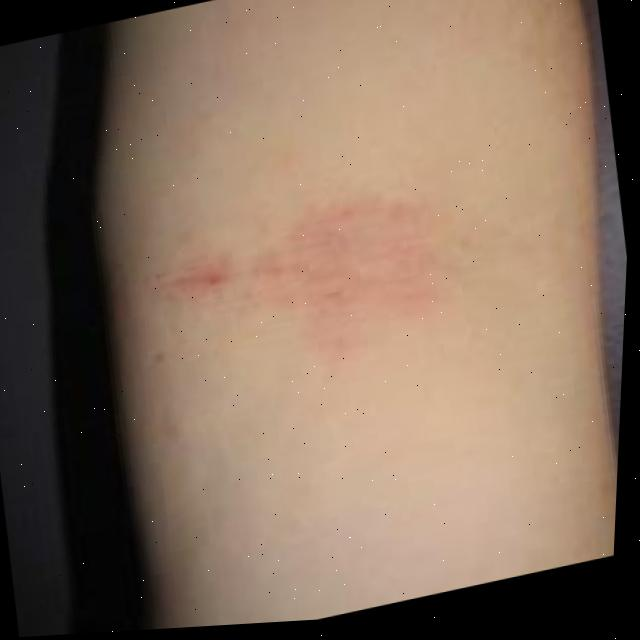Eczema: (159, 168, 467, 381)
